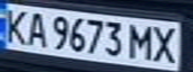3: (103, 19, 127, 57)
6: (66, 15, 87, 53)
7: (84, 16, 106, 55)
9: (45, 12, 72, 52)
A: (21, 9, 51, 47)
K: (0, 6, 30, 45)
M: (127, 21, 157, 61)
X: (148, 24, 181, 64)
